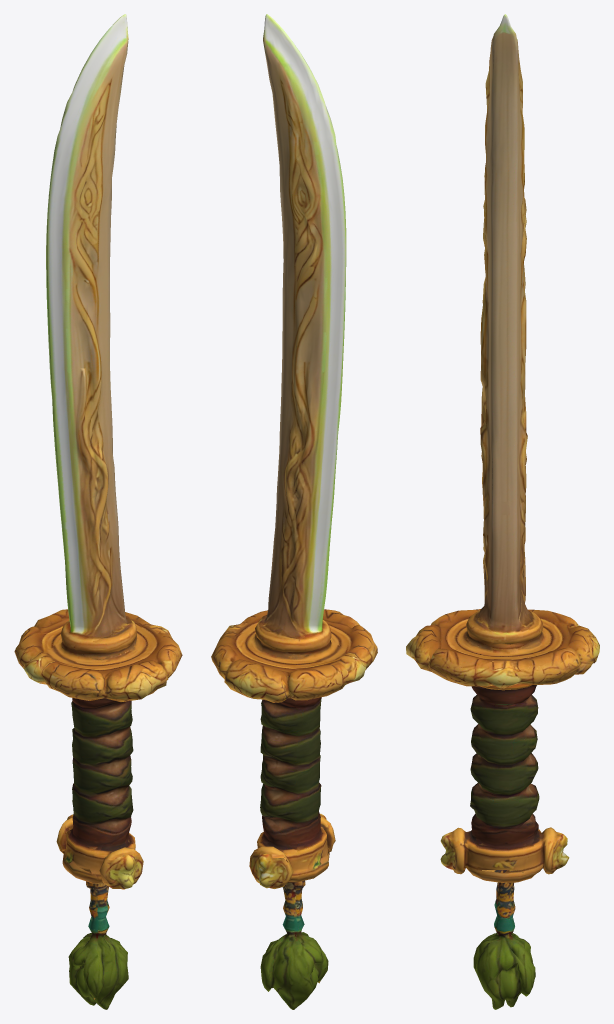
File: rowan-sword-4500.fbx
3 views of the same model, side by side, from view 1: azimuth 30°, elevation 25°; view 2: azimuth 150°, elevation 25°; view 3: azimuth 270°, elevation 25° (orthographic). The views are drawn at different scales.
Parts seen in each view (by area): view 1: tripo_node_cce2706e; view 2: tripo_node_cce2706e; view 3: tripo_node_cce2706e.
Boxes of the visible parts, box(x1,y1,x2,y2) form: tripo_node_cce2706e: box(14, 14, 182, 1009); tripo_node_cce2706e: box(211, 14, 377, 1009); tripo_node_cce2706e: box(406, 14, 599, 1009).
Size of the model in its own units: 0.145 by 0.9794 by 0.1707.
